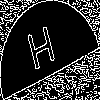H: (25, 25, 59, 80)
